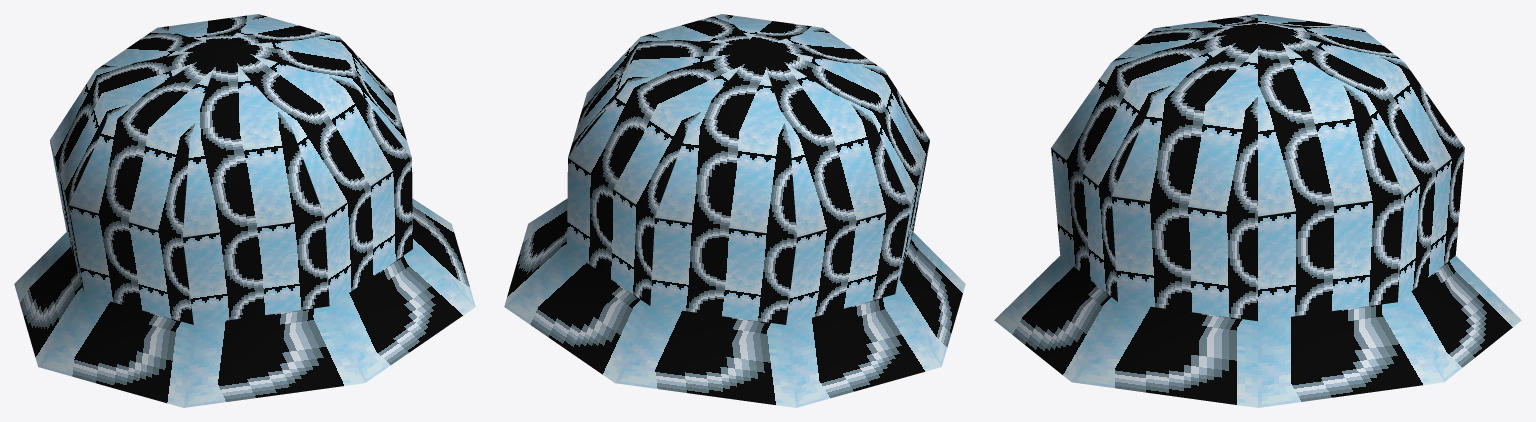
The picture shows the model from 3 angles, left to right: view 1: azimuth 30°, elevation 25°; view 2: azimuth 150°, elevation 25°; view 3: azimuth 270°, elevation 25°; orthographic projection. The views are drawn at different scales.
Visible parts, largest first — view 1: ef_675; view 2: ef_675; view 3: ef_675.
Boxes of the visible parts, <box> form: ef_675: <box>14,14,475,407</box>; ef_675: <box>504,14,965,407</box>; ef_675: <box>994,14,1521,407</box>.
Size of the model in its own units: 0.4189 by 0.2671 by 0.4209.
1 material, 1 textured.
